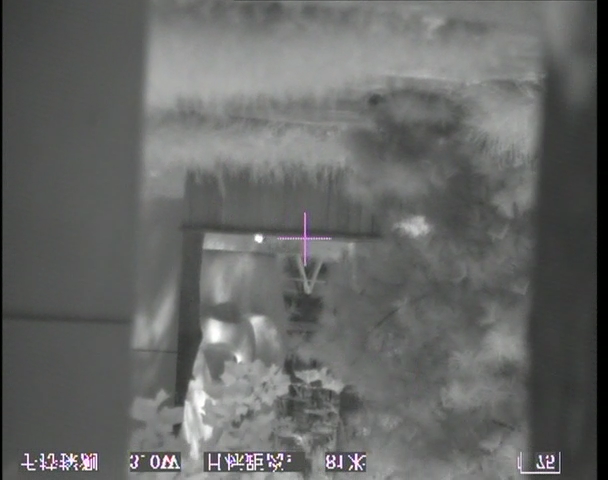my: (253, 233, 264, 244)
